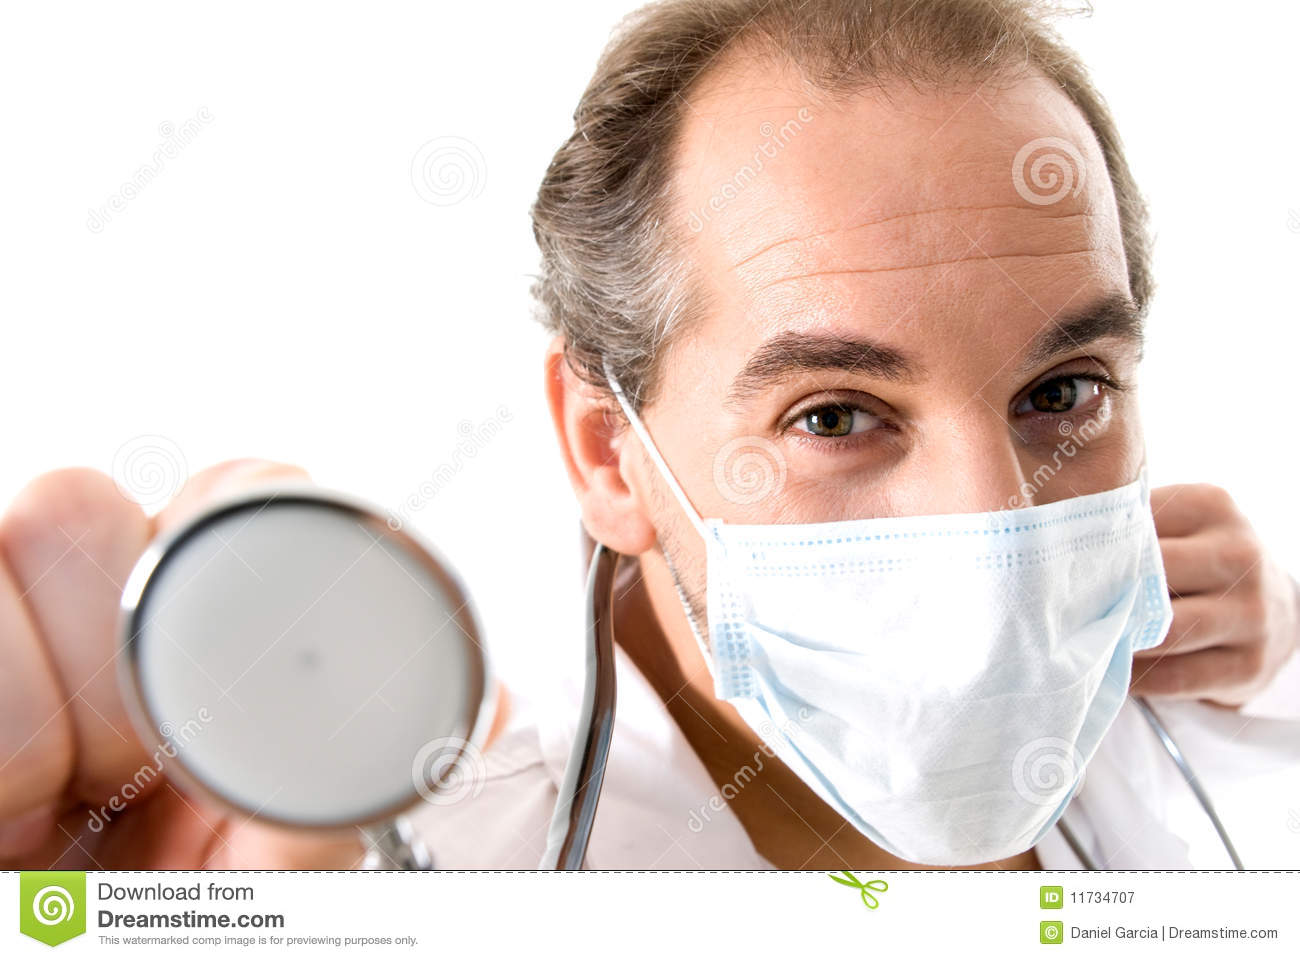mask: (697, 489, 1179, 856)
